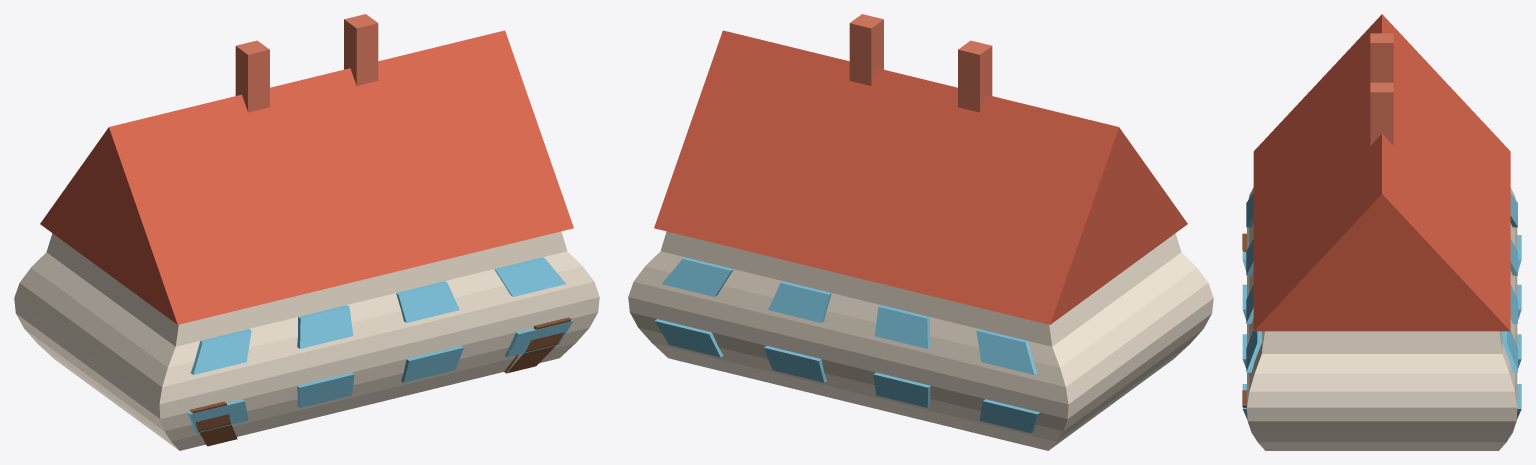
Rendered from semi_detached.glb.
3 views of the same model, side by side, from view 1: azimuth 30°, elevation 25°; view 2: azimuth 150°, elevation 25°; view 3: azimuth 270°, elevation 25° (orthographic). The views are drawn at different scales.
Visible parts, largest first — view 1: semi_detached_roof_red, semi_detached_wall_cream, semi_detached_window, semi_detached_brick, semi_detached_door; view 2: semi_detached_roof_red, semi_detached_wall_cream, semi_detached_window, semi_detached_brick; view 3: semi_detached_roof_red, semi_detached_wall_cream, semi_detached_window, semi_detached_brick.
Boxes of the visible parts, <box> form: semi_detached_roof_red: <box>40,30,573,324</box>; semi_detached_wall_cream: <box>14,231,599,450</box>; semi_detached_window: <box>187,257,573,433</box>; semi_detached_brick: <box>235,14,378,112</box>; semi_detached_door: <box>190,317,571,446</box>; semi_detached_roof_red: <box>654,30,1187,324</box>; semi_detached_wall_cream: <box>628,231,1213,450</box>; semi_detached_window: <box>654,257,1040,433</box>; semi_detached_brick: <box>849,14,992,112</box>; semi_detached_roof_red: <box>1253,14,1510,331</box>; semi_detached_wall_cream: <box>1247,187,1517,450</box>; semi_detached_window: <box>1242,193,1521,419</box>; semi_detached_brick: <box>1370,33,1393,145</box>.
Size of the model in its own units: 16.87 by 11.88 by 9.96.
